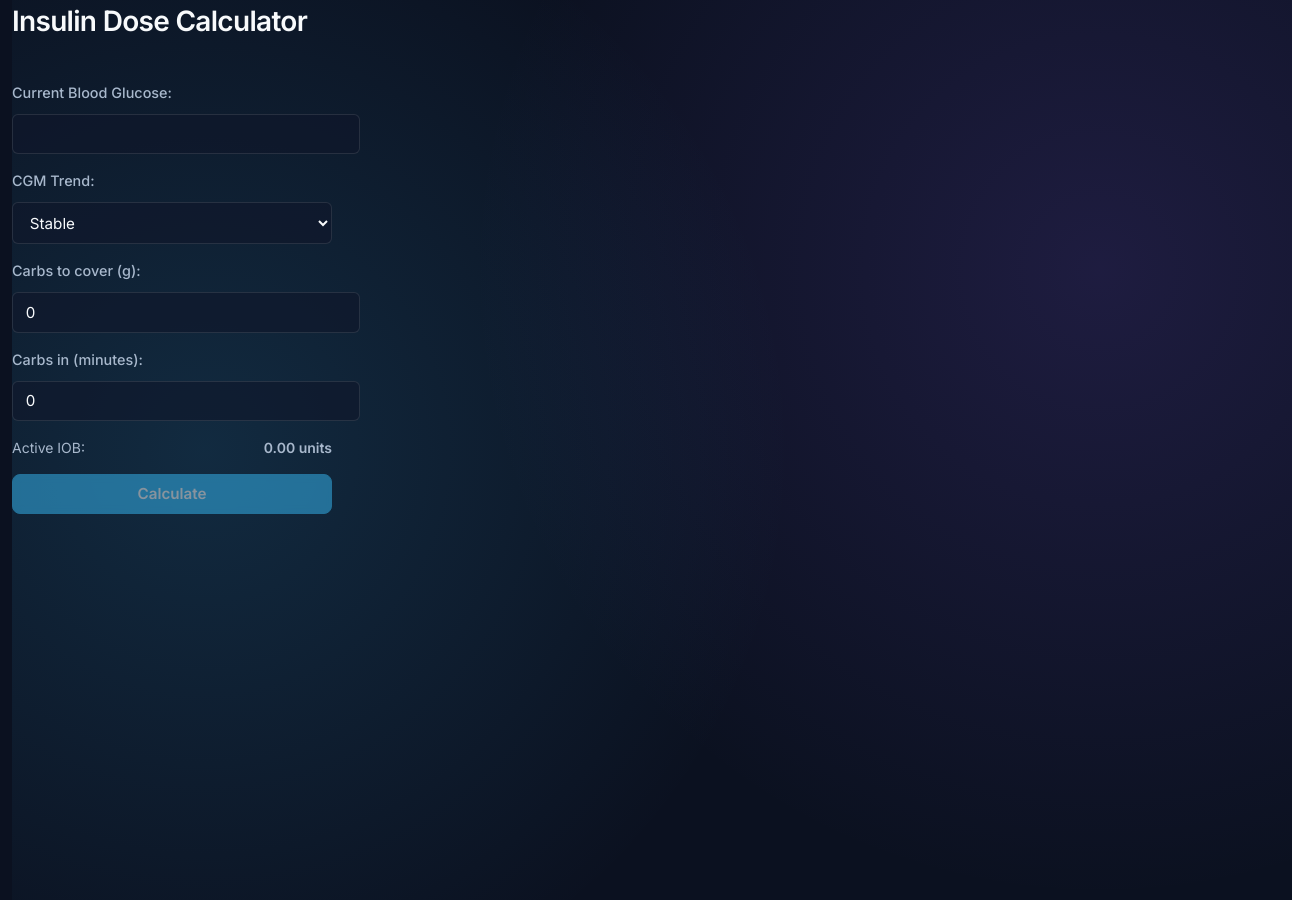
DoseCalculator › calculate button becomes enabled when currentBg is filled in
Type "150" into the number field labelled "Current Blood Glucose:" at coordinates (186, 134), box [12,114,360,154]
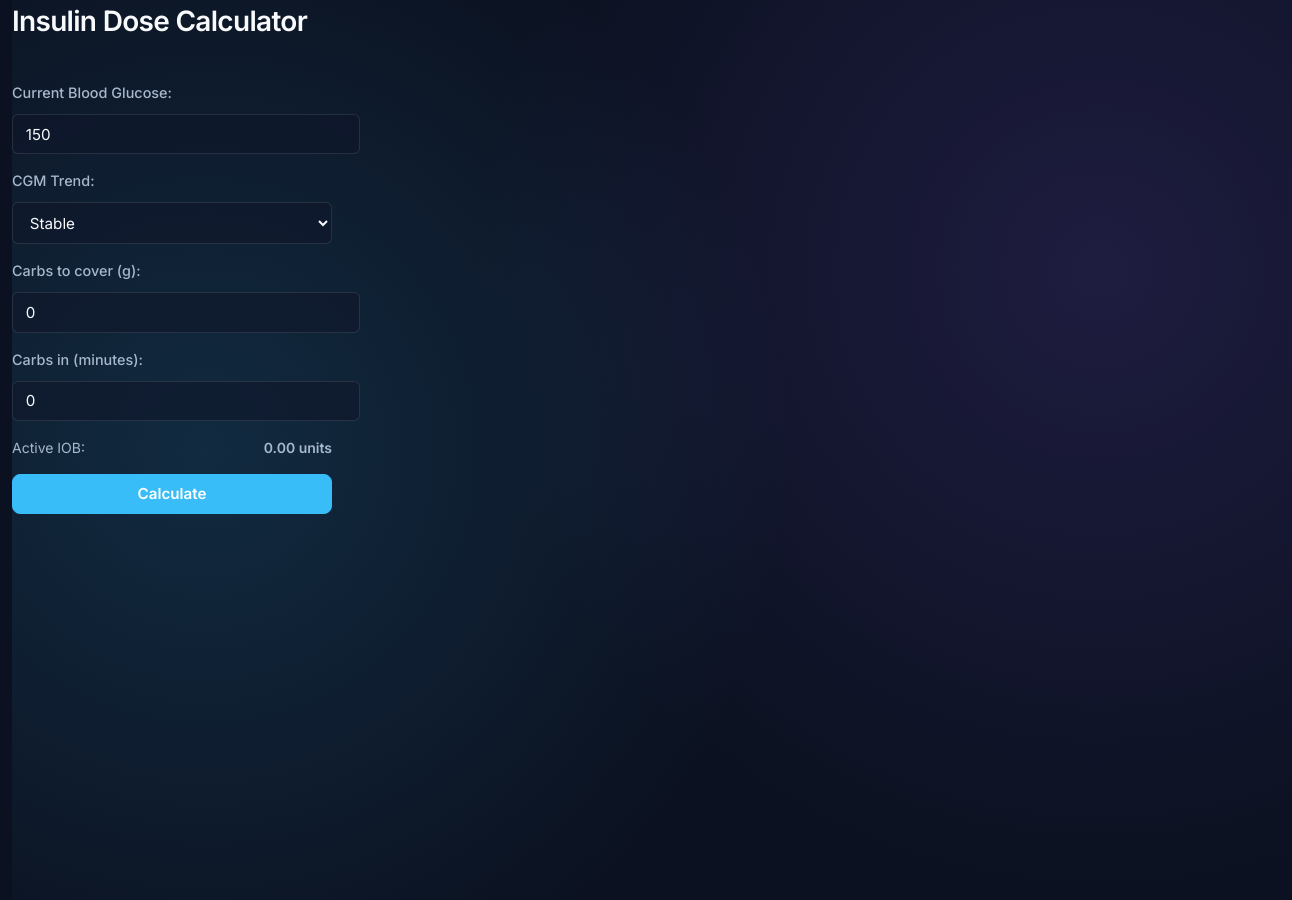
expect the button "Calculate" is enabled: met, box [12,474,332,514]
